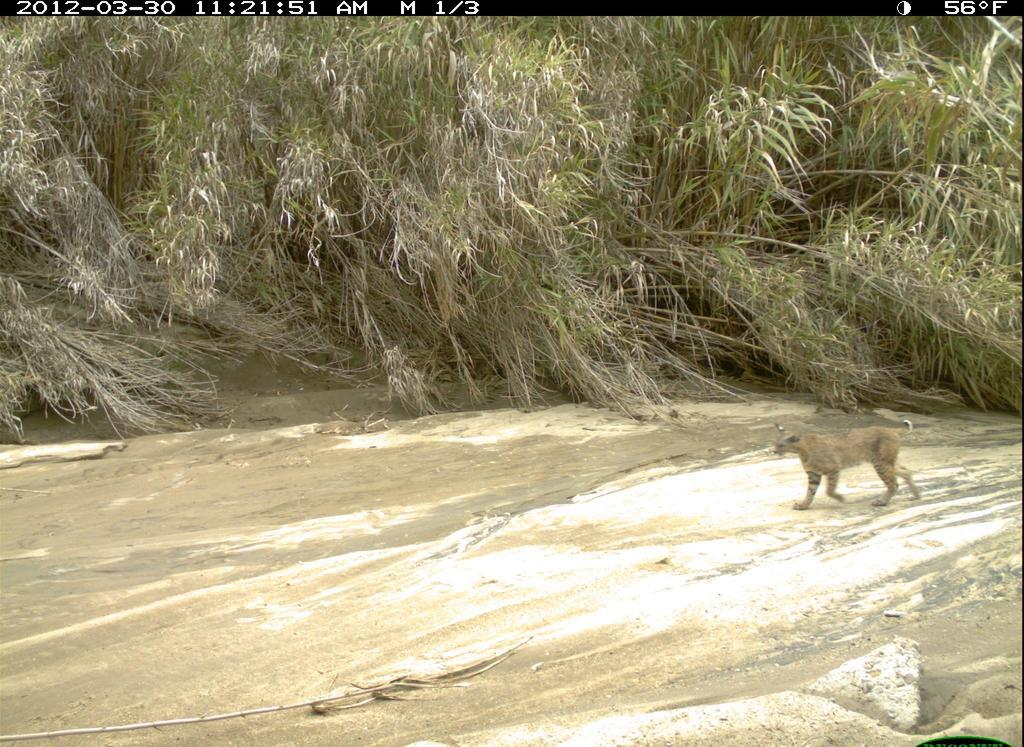bobcat: (770, 419, 930, 514)
